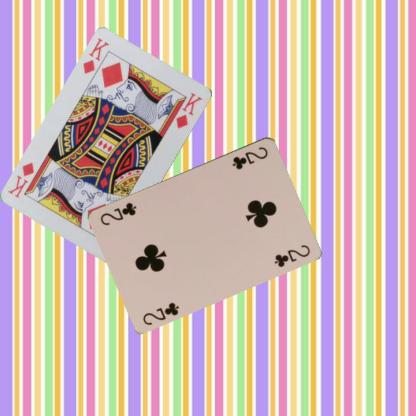2c: (140, 300, 181, 326), (230, 144, 270, 170)
Kd: (80, 35, 110, 76)
